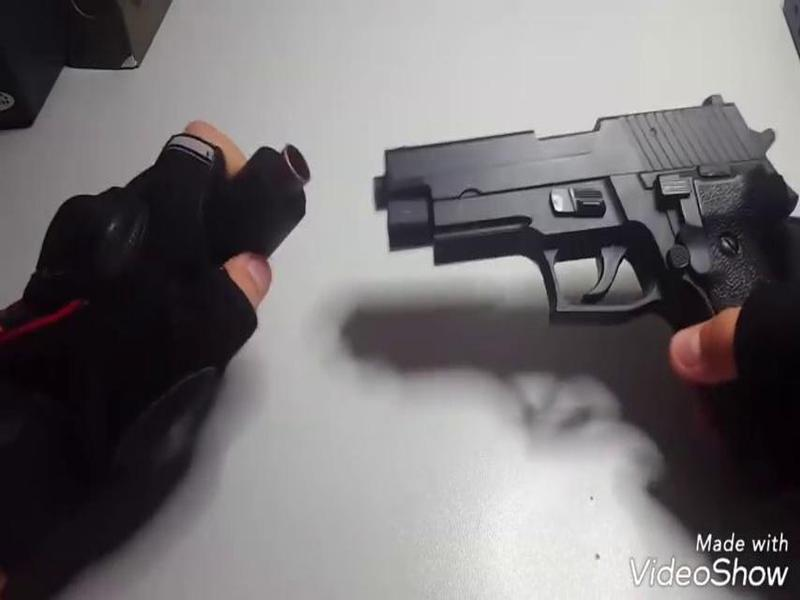Pistola: (372, 87, 800, 378)
